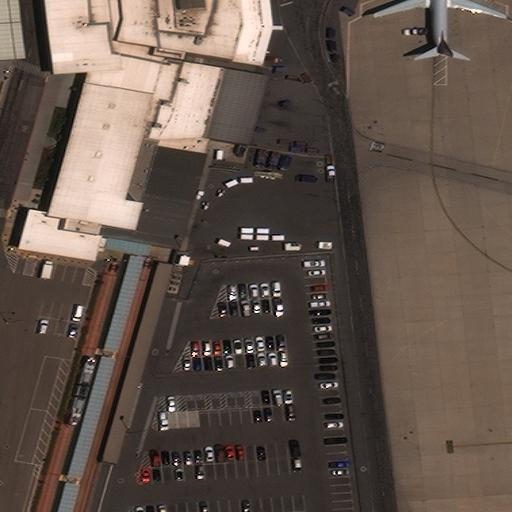Medium Civil Transport: (374, 0, 505, 57)
